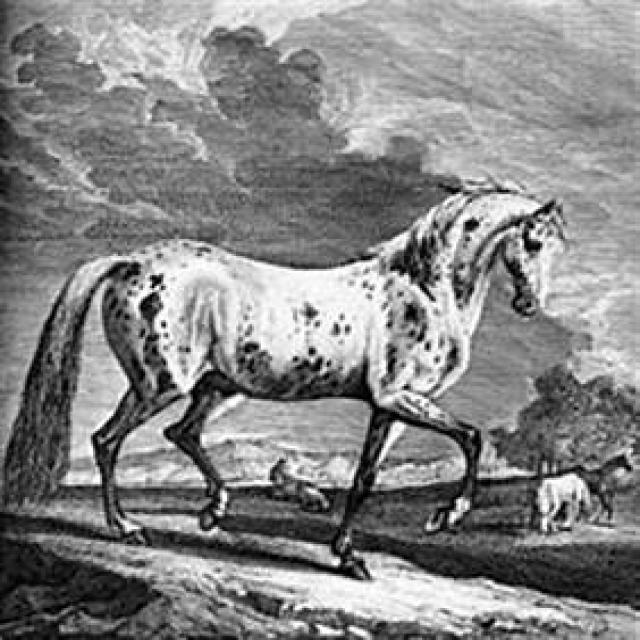horse: (6, 188, 564, 577)
